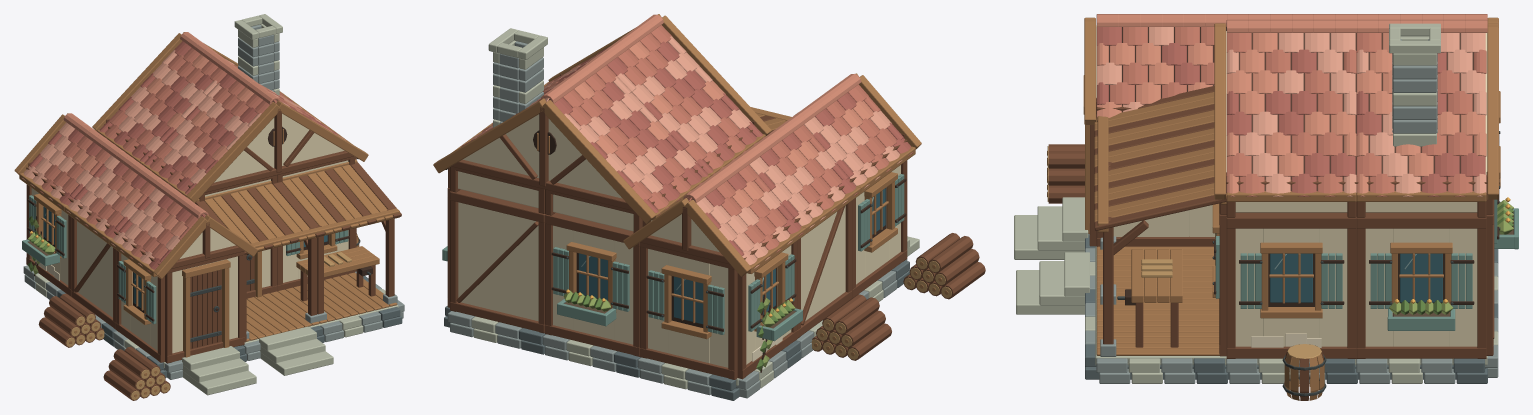
The model's file is carpenter_court.glb.
The picture shows the model from 3 angles, left to right: view 1: azimuth 30°, elevation 25°; view 2: azimuth 150°, elevation 25°; view 3: azimuth 270°, elevation 25°; orthographic projection. The views are drawn at different scales.
Parts seen in each view (by area): view 1: carpenter_court__052__roof_gable_4x2m__finish, carpenter_court__051__roof_gable_4x2m__finish, carpenter_court__069__attachment_work_canopy_2m__attachments, carpenter_court__068__attachment_work_canopy_2m__attachments, carpenter_court__053__gable_end_4m__structure, carpenter_court__056__roof_gable_2x2m__finish, carpenter_court__057__roof_gable_2x2m__finish, carpenter_court__055__roof_gable_2x2m__finish, carpenter_court__002__wall_door_2m__structure, carpenter_court__002__wall_door_2m__finish, carpenter_court__053__gable_end_4m__finish, carpenter_court__076__attachment_chimney__attachments (+30 smaller); view 2: carpenter_court__051__roof_gable_4x2m__finish, carpenter_court__052__roof_gable_4x2m__finish, carpenter_court__041__wall_plain_2m__finish, carpenter_court__054__gable_end_4m__structure, carpenter_court__055__roof_gable_2x2m__finish, carpenter_court__056__roof_gable_2x2m__finish, carpenter_court__057__roof_gable_2x2m__finish, carpenter_court__014__wall_window_2m__finish, carpenter_court__014__wall_window_2m__structure, carpenter_court__026__wall_window_2m__structure, carpenter_court__026__wall_window_2m__finish, carpenter_court__041__wall_plain_2m__structure (+29 smaller); view 3: carpenter_court__051__roof_gable_4x2m__finish, carpenter_court__052__roof_gable_4x2m__finish, carpenter_court__055__roof_gable_2x2m__finish, carpenter_court__033__wall_window_2m__finish, carpenter_court__038__wall_window_2m__finish, carpenter_court__069__attachment_work_canopy_2m__attachments, carpenter_court__033__wall_window_2m__structure, carpenter_court__038__wall_window_2m__structure, carpenter_court__068__attachment_work_canopy_2m__attachments, carpenter_court__076__attachment_chimney__attachments, carpenter_court__065__floor_cell_2m__structure, carpenter_court__070__attachment_steps_040__attachments (+30 smaller).
Part boxes in pixels (x1=…): carpenter_court__052__roof_gable_4x2m__finish: x1=98, y1=32, x2=316, y2=162; carpenter_court__051__roof_gable_4x2m__finish: x1=143, y1=65, x2=346, y2=195; carpenter_court__069__attachment_work_canopy_2m__attachments: x1=281, y1=159, x2=401, y2=321; carpenter_court__068__attachment_work_canopy_2m__attachments: x1=195, y1=181, x2=323, y2=338; carpenter_court__053__gable_end_4m__structure: x1=186, y1=100, x2=368, y2=202; carpenter_court__056__roof_gable_2x2m__finish: x1=66, y1=146, x2=160, y2=239; carpenter_court__057__roof_gable_2x2m__finish: x1=21, y1=113, x2=115, y2=207; carpenter_court__055__roof_gable_2x2m__finish: x1=111, y1=179, x2=208, y2=272; carpenter_court__002__wall_door_2m__structure: x1=165, y1=251, x2=244, y2=363; carpenter_court__002__wall_door_2m__finish: x1=172, y1=256, x2=237, y2=353; carpenter_court__053__gable_end_4m__finish: x1=214, y1=113, x2=344, y2=182; carpenter_court__076__attachment_chimney__attachments: x1=234, y1=14, x2=282, y2=95; carpenter_court__051__roof_gable_4x2m__finish: x1=543, y1=14, x2=764, y2=174; carpenter_court__052__roof_gable_4x2m__finish: x1=461, y1=54, x2=709, y2=215; carpenter_court__041__wall_plain_2m__finish: x1=458, y1=202, x2=538, y2=321; carpenter_court__054__gable_end_4m__structure: x1=433, y1=98, x2=656, y2=223; carpenter_court__055__roof_gable_2x2m__finish: x1=797, y1=74, x2=913, y2=188; carpenter_court__056__roof_gable_2x2m__finish: x1=742, y1=114, x2=858, y2=228; carpenter_court__057__roof_gable_2x2m__finish: x1=683, y1=154, x2=803, y2=268; carpenter_court__014__wall_window_2m__finish: x1=648, y1=249, x2=728, y2=367; carpenter_court__014__wall_window_2m__structure: x1=640, y1=242, x2=737, y2=379; carpenter_court__026__wall_window_2m__structure: x1=545, y1=212, x2=639, y2=356; carpenter_court__026__wall_window_2m__finish: x1=553, y1=225, x2=633, y2=344; carpenter_court__041__wall_plain_2m__structure: x1=450, y1=189, x2=545, y2=333; carpenter_court__051__roof_gable_4x2m__finish: x1=1226, y1=19, x2=1356, y2=196; carpenter_court__052__roof_gable_4x2m__finish: x1=1356, y1=19, x2=1487, y2=196; carpenter_court__055__roof_gable_2x2m__finish: x1=1096, y1=14, x2=1226, y2=117; carpenter_court__033__wall_window_2m__finish: x1=1235, y1=228, x2=1347, y2=346; carpenter_court__038__wall_window_2m__finish: x1=1365, y1=228, x2=1477, y2=346; carpenter_court__069__attachment_work_canopy_2m__attachments: x1=1094, y1=144, x2=1226, y2=356; carpenter_court__033__wall_window_2m__structure: x1=1226, y1=212, x2=1356, y2=358; carpenter_court__038__wall_window_2m__structure: x1=1356, y1=212, x2=1486, y2=358; carpenter_court__068__attachment_work_canopy_2m__attachments: x1=1094, y1=86, x2=1214, y2=290; carpenter_court__076__attachment_chimney__attachments: x1=1389, y1=23, x2=1440, y2=146; carpenter_court__065__floor_cell_2m__structure: x1=1096, y1=299, x2=1219, y2=355; carpenter_court__070__attachment_steps_040__attachments: x1=1016, y1=252, x2=1089, y2=314.
Bounding box in the file's own units: 8.16 × 5.53 × 7.77.
